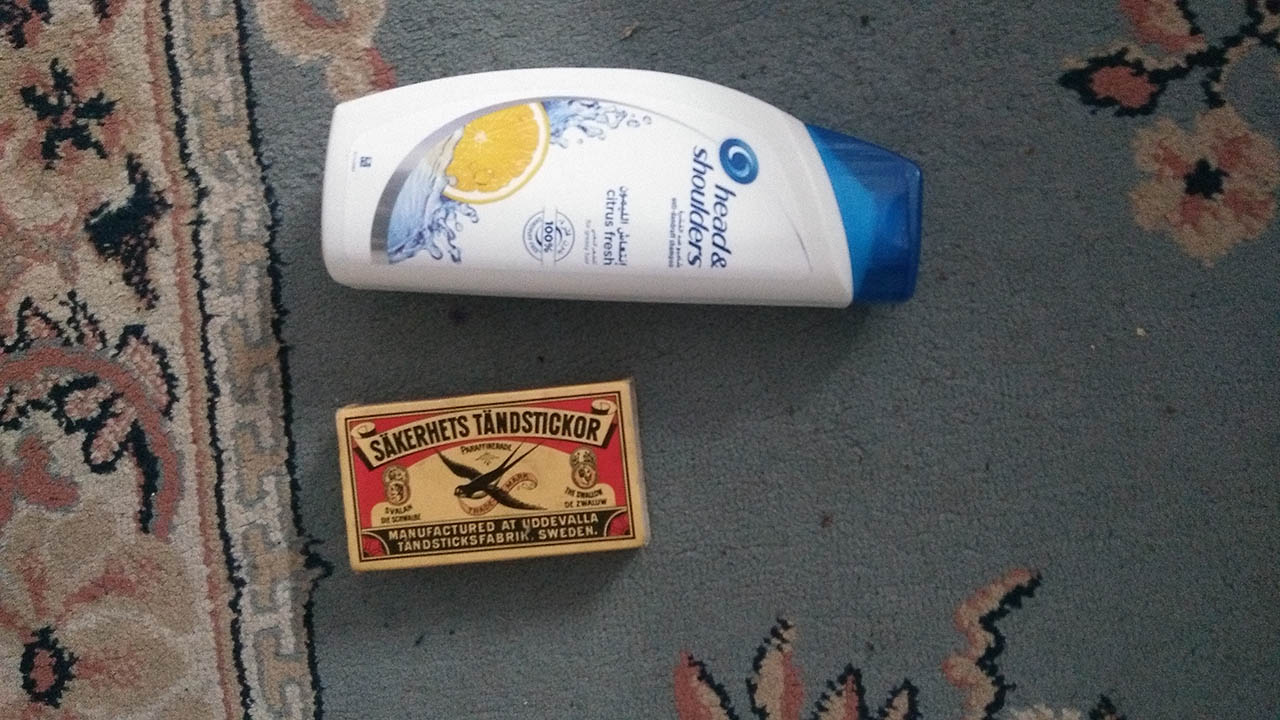match-sticks .90$: (328, 386, 661, 567)
shampoo-Lemon 3.5$: (309, 71, 942, 311)
